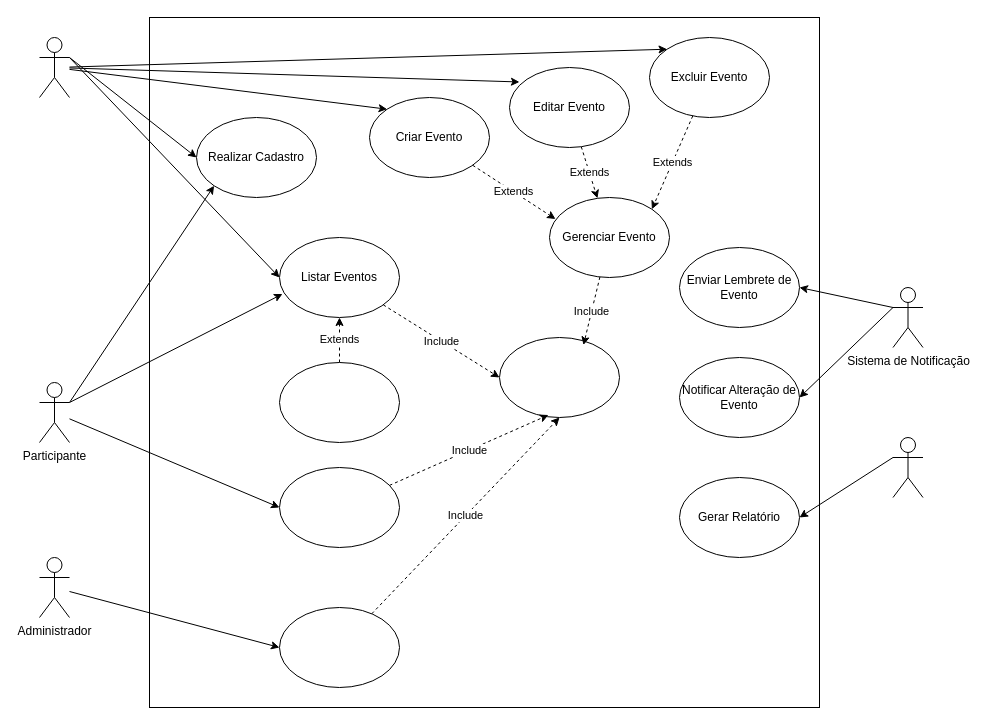
Image size: 987x725. Some labels were removed from this diagram. The shapes that lost their labels are listed below. From the top down, each one's centre as x and y in pixels, then its label:
At point 54,67: "Organizador".
At point 559,377: "Realizar Login".
At point 339,402: "Aplicar Filtros de Busca".
At point 907,467: "Sistema de Estatísticas".
At point 339,507: "Inscrever-se em Evento".
At point 339,647: "Visualizar Estatísticas".
